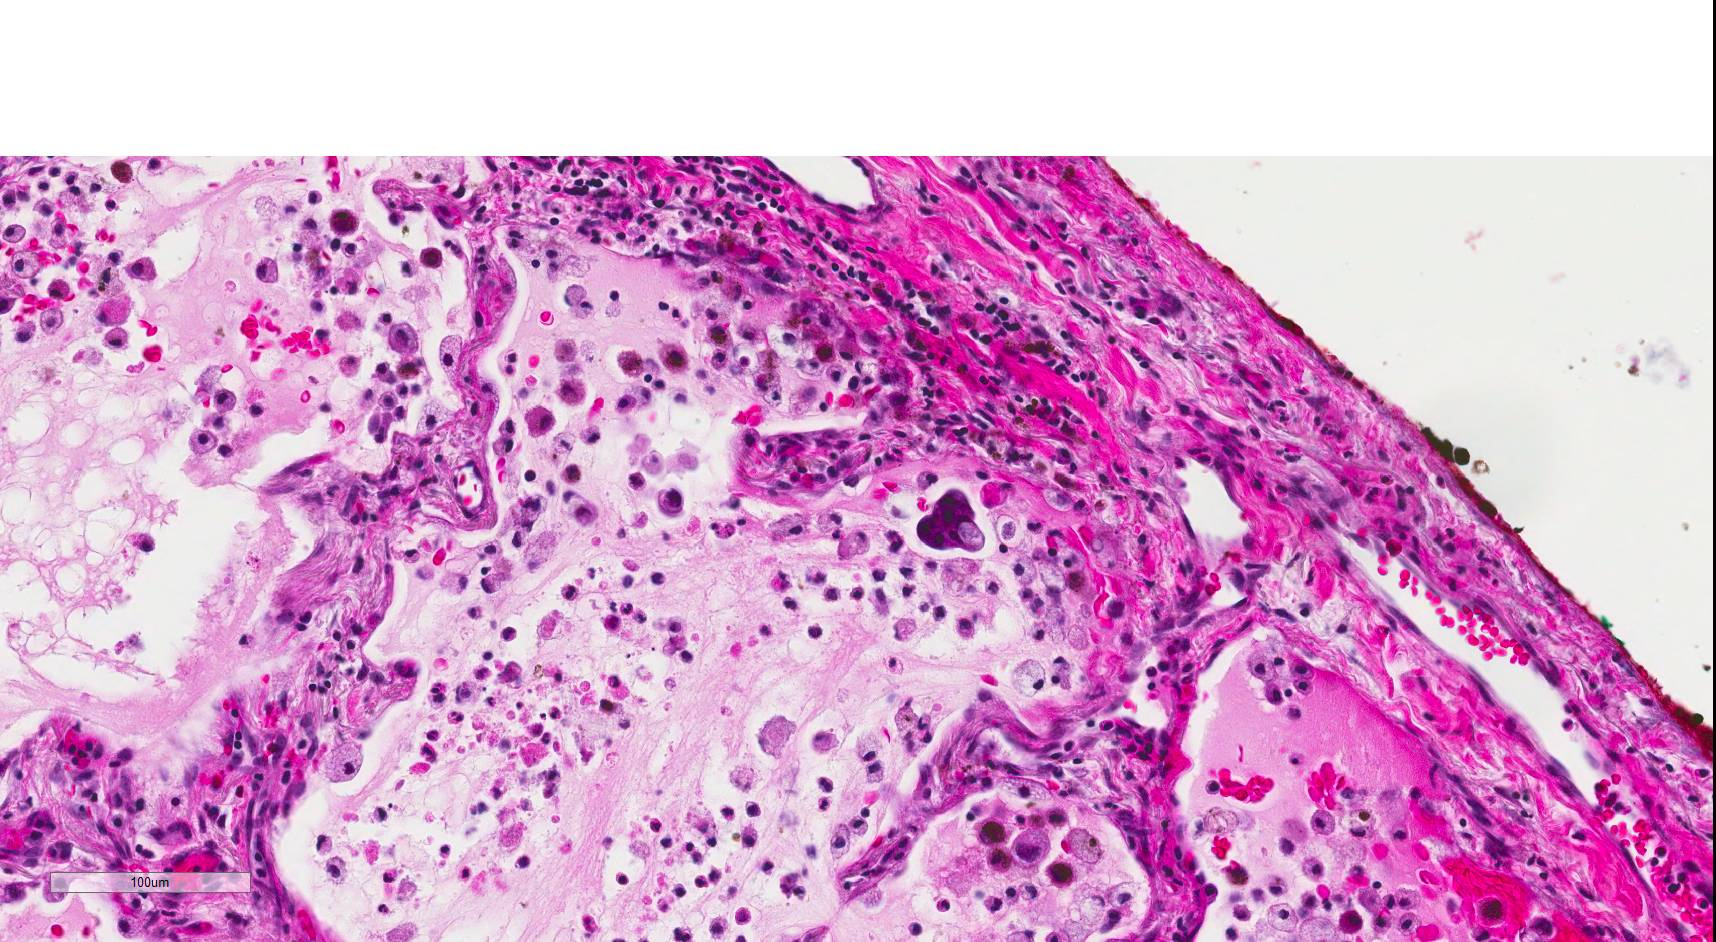stas: (914, 485, 990, 559)
